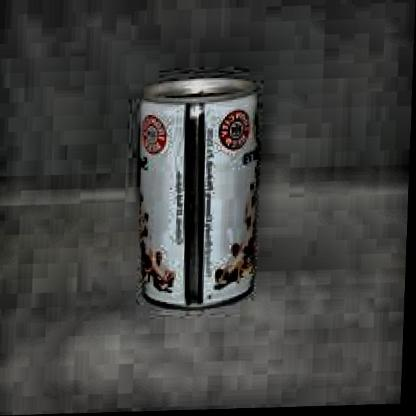Can: (132, 75, 266, 314)
